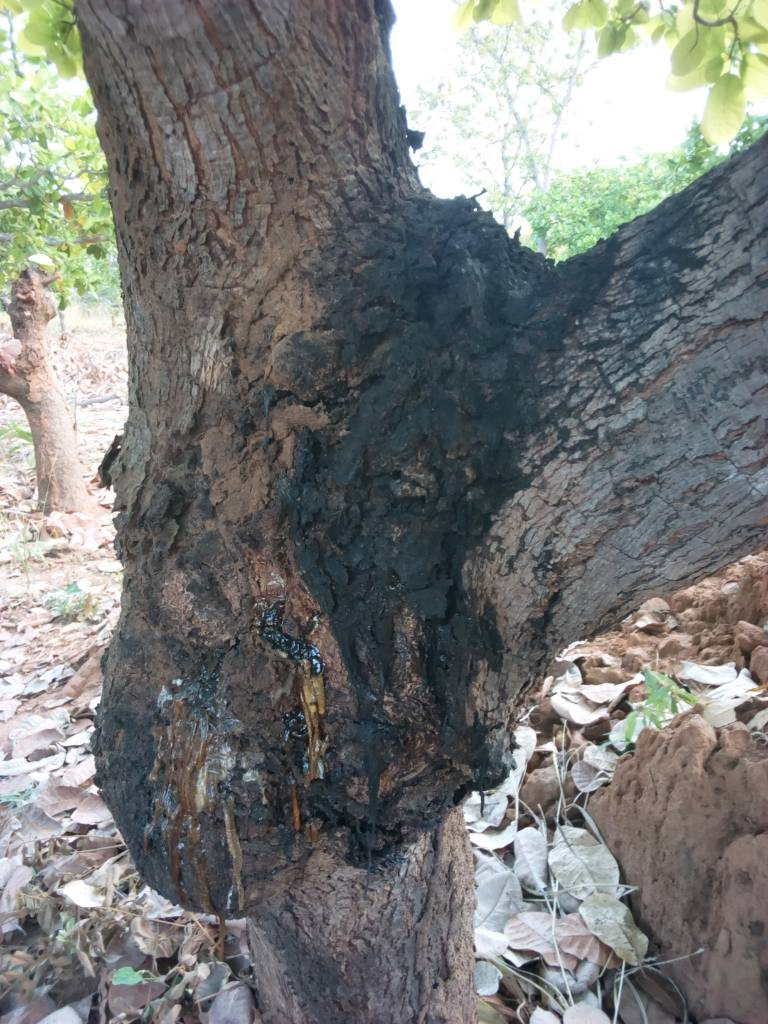Gommose: (325, 232, 511, 819), (118, 636, 321, 911)
